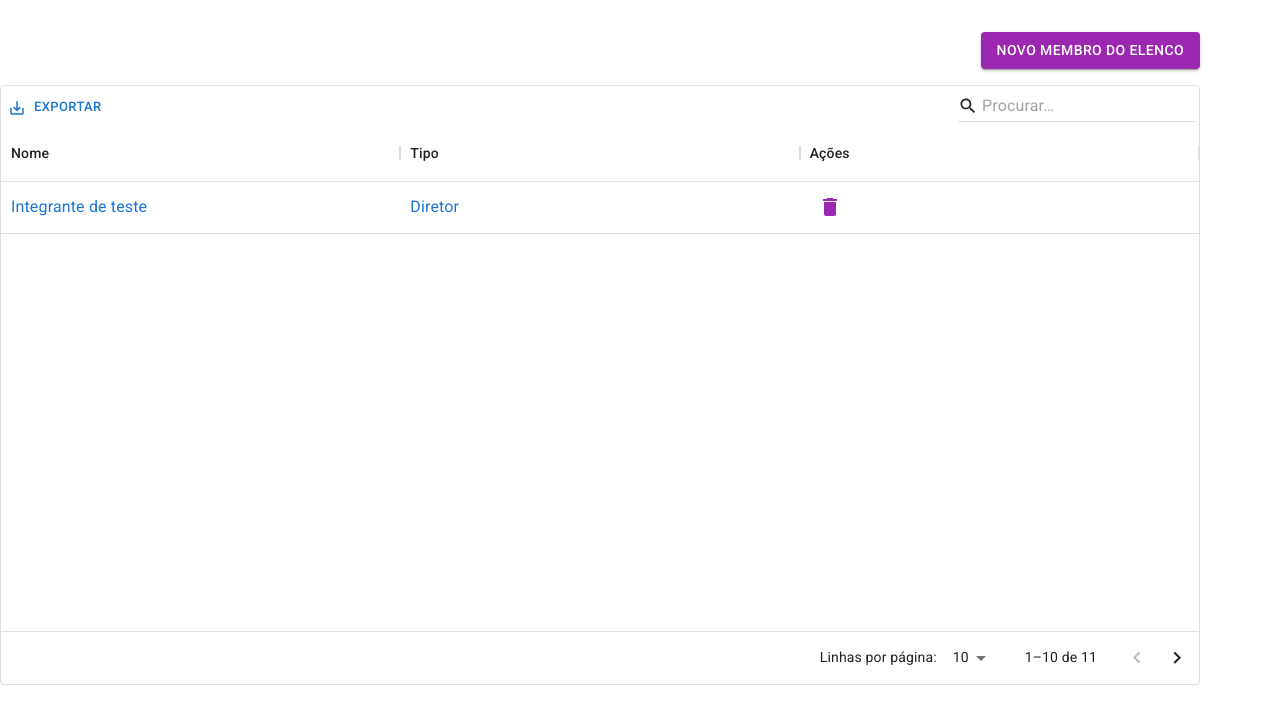
Test: Listagem de integrantes do elenco › deve informar quando a exclusão falhar
The image size is (1280, 720).
Expected: the text "Integrante de teste" is shown, [11, 195, 147, 219]
Click the button named "delete" at [830, 207], box [810, 187, 850, 227]
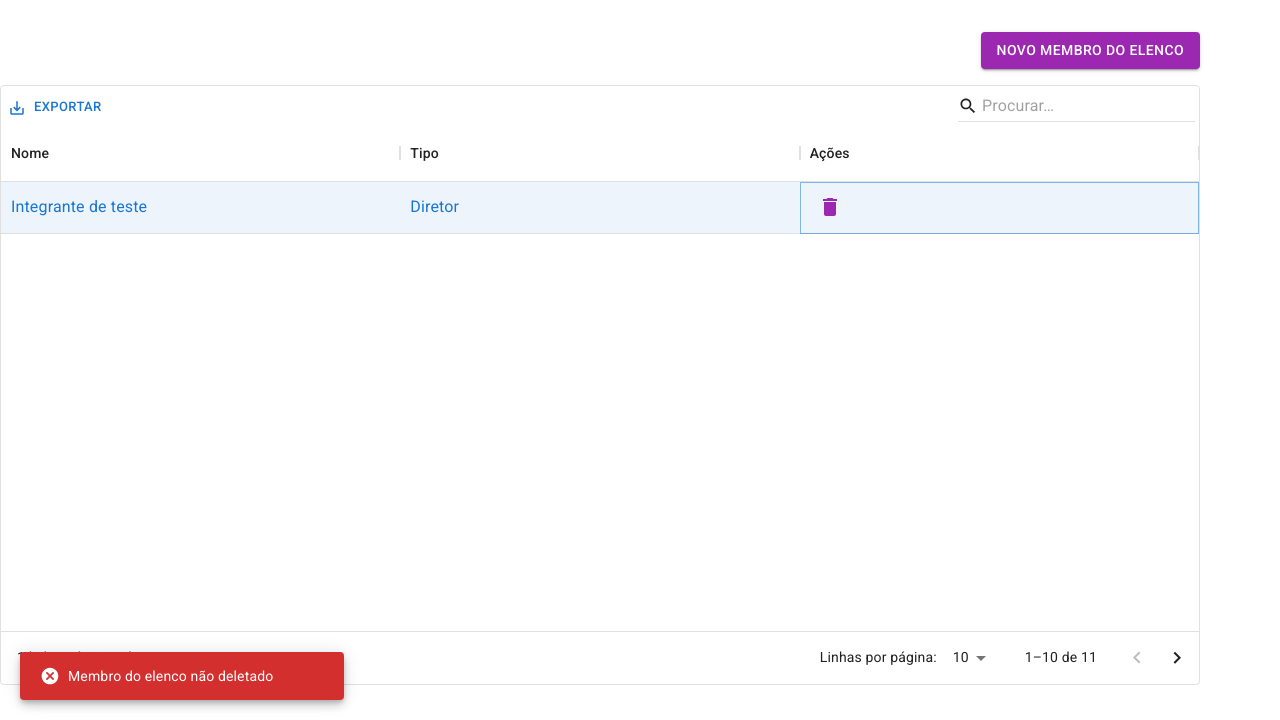
Result: the text "Membro do elenco não deletado" is shown at [40, 666, 273, 686]
